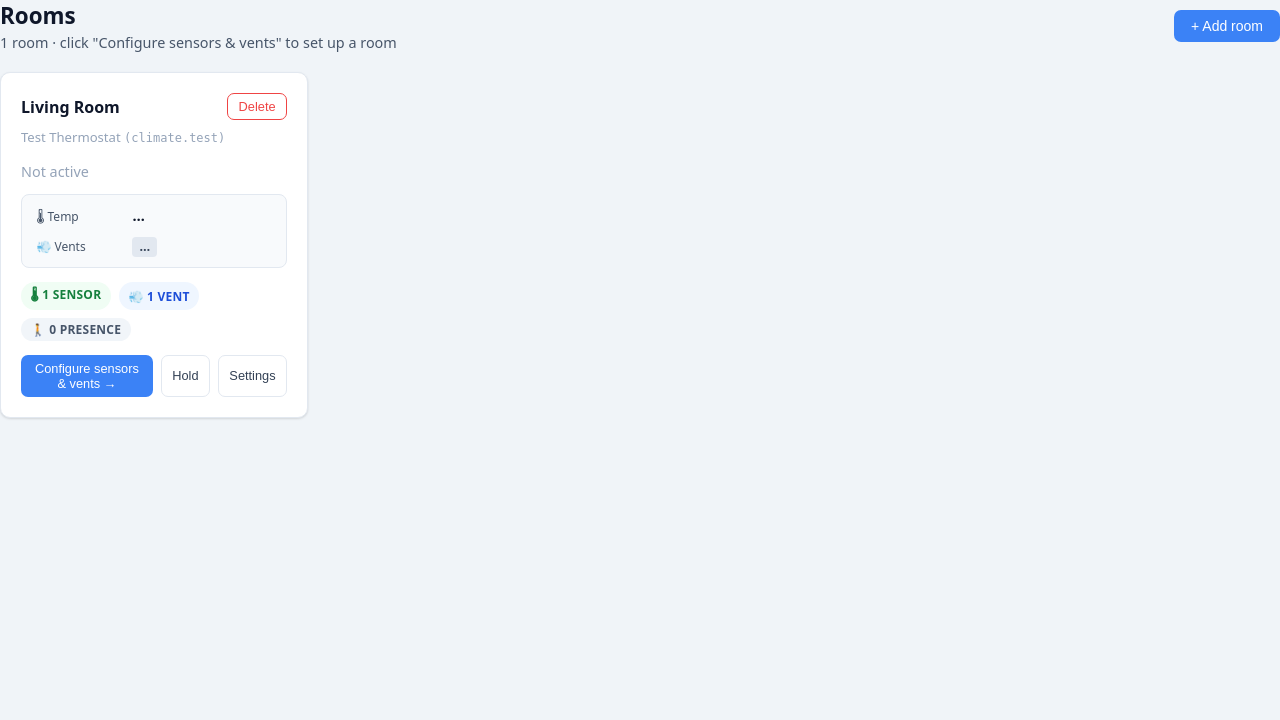
Test case: Rooms settings form — validation guards › rejects a negative pre-cool/pre-heat minimum outside difference
Click the button "+ Add room": coordinates (1227, 26) [1174,10,1279,42]
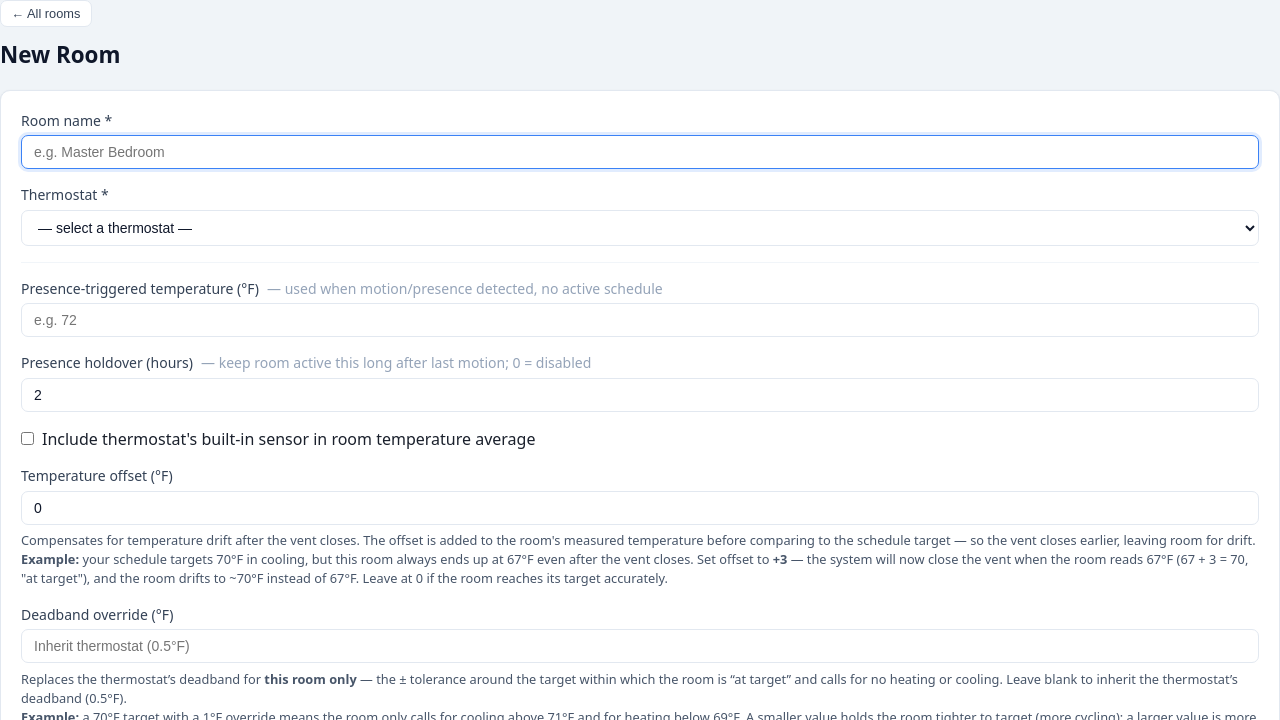
Result: the text "New Room" is shown at [0,39,120,70]
In the field labelled "Room name *": coordinates (640, 152) [21,135,1259,169], type "Den"
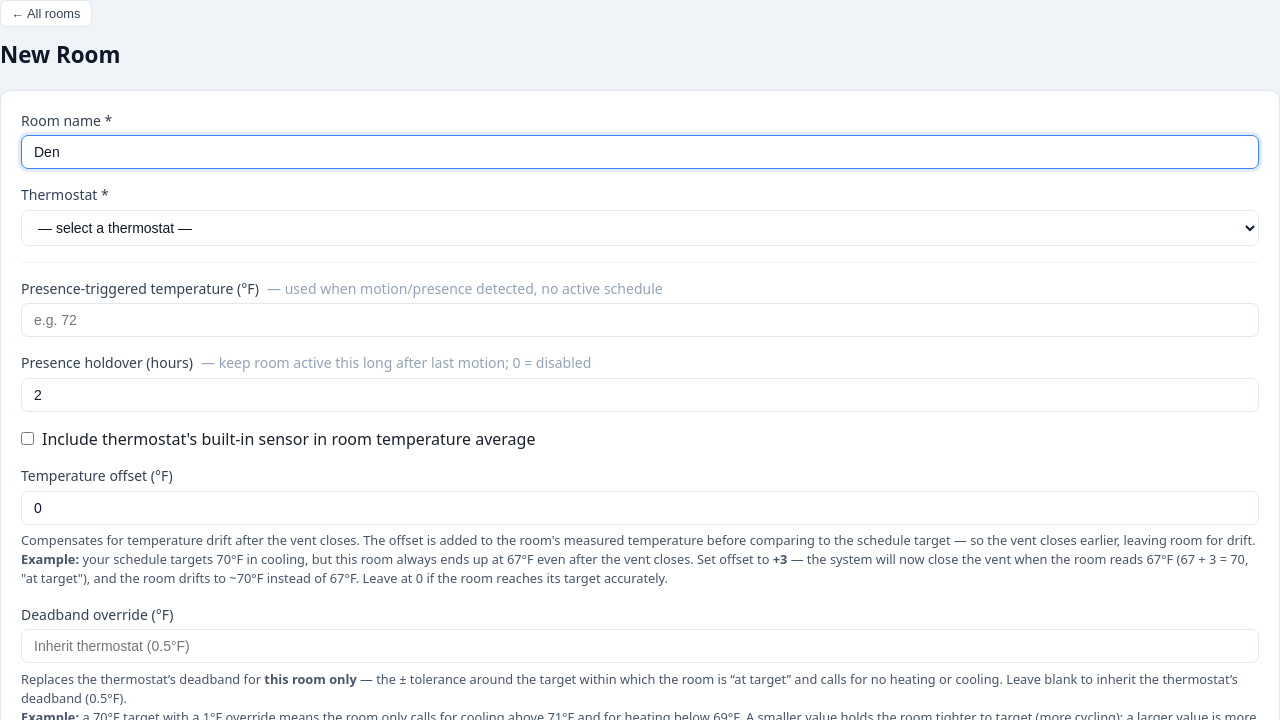
Select "Test Thermostat (climate.test)" in the dropdown labelled "Thermostat *": coordinates (640, 228) [21,210,1259,246]
(page scrolled)
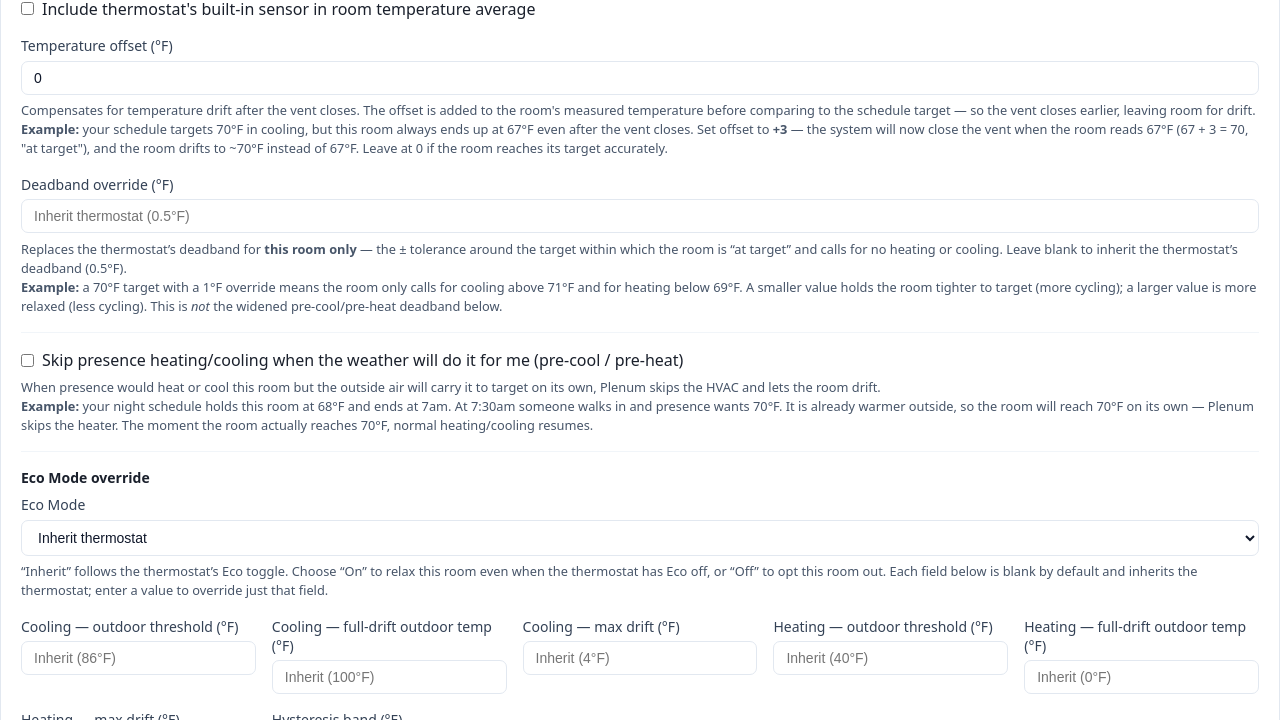
Result: the checkbox named "pre-cool / pre-heat" is enabled
Click the checkbox named "pre-cool / pre-heat": coordinates (28, 360) [21,354,34,367]
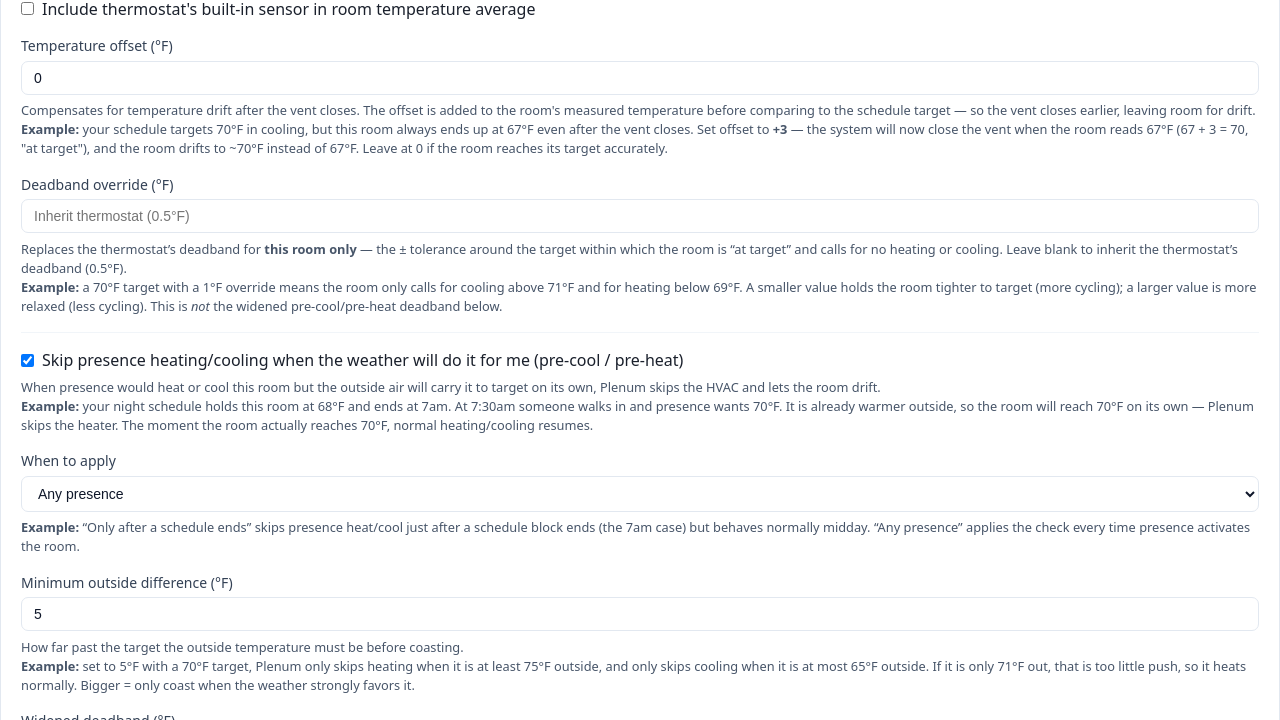
Replace the text in the number field labelled "Minimum outside difference (°F)" with "-1": coordinates (640, 614) [21,597,1259,631]
(page scrolled)
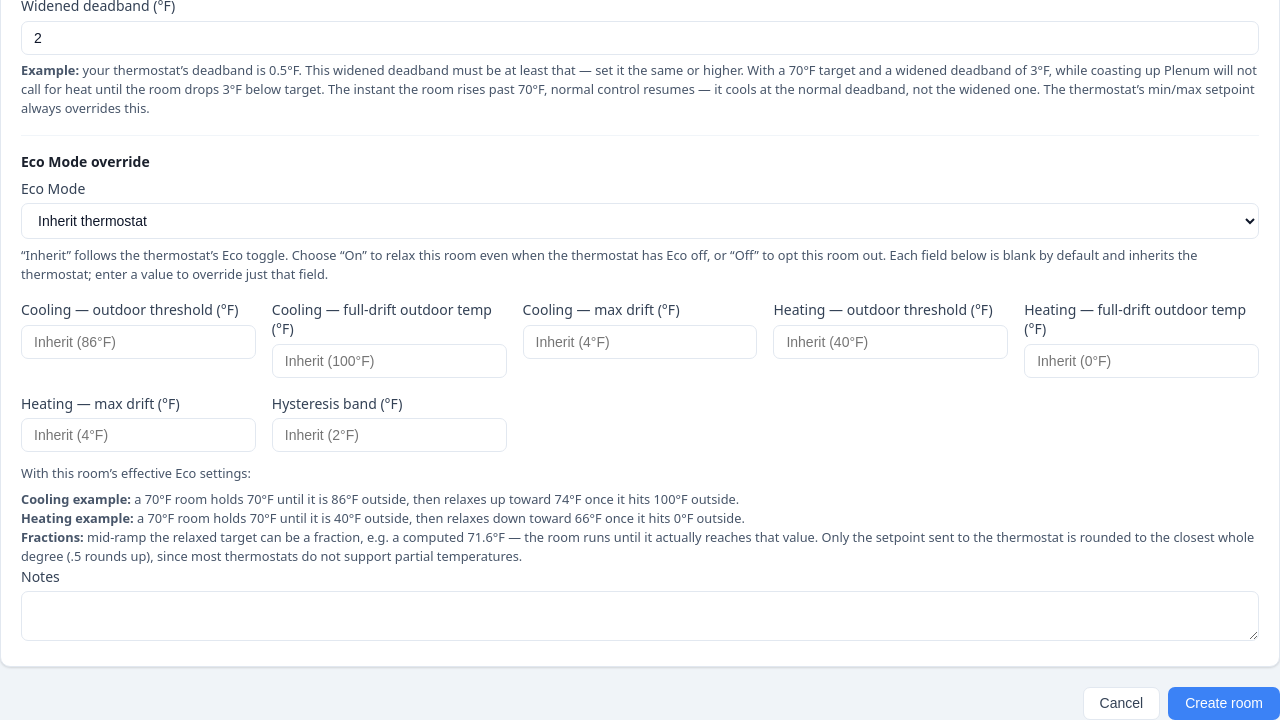
Click the button "Create room": coordinates (1224, 703) [1168,687,1279,719]
(page scrolled)
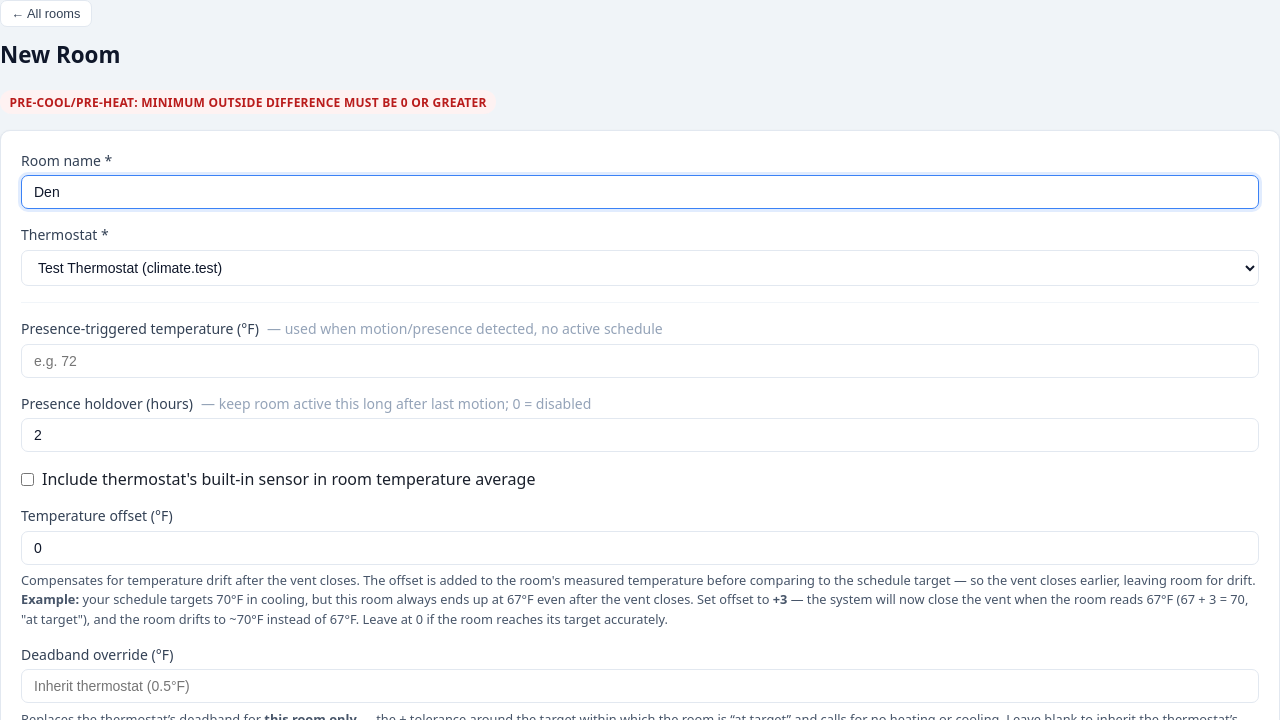
Result: the text "Pre-cool/pre-heat: minimum outside difference must be 0 or greater" is shown at [0,90,496,114]
